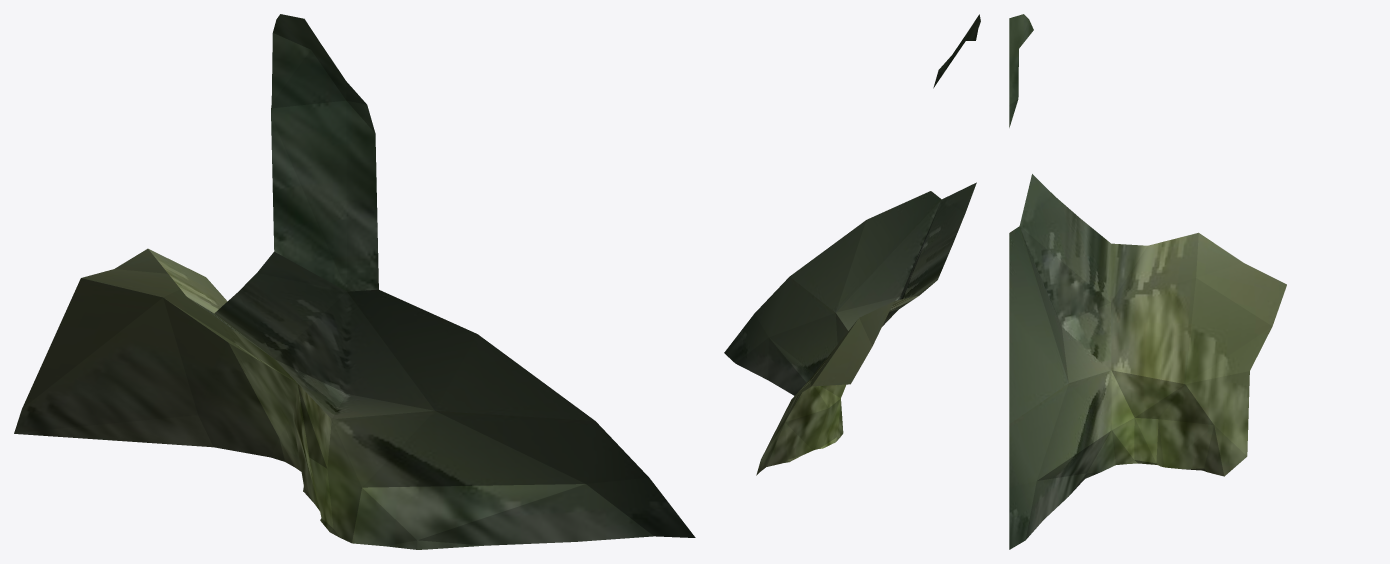
3 views of the same model, side by side, from view 1: azimuth 30°, elevation 25°; view 2: azimuth 150°, elevation 25°; view 3: azimuth 270°, elevation 25° (orthographic). The views are drawn at different scales.
Bounding box in the file's own units: 2.03 × 2.95 × 2.41.
2 materials, 2 textured.
